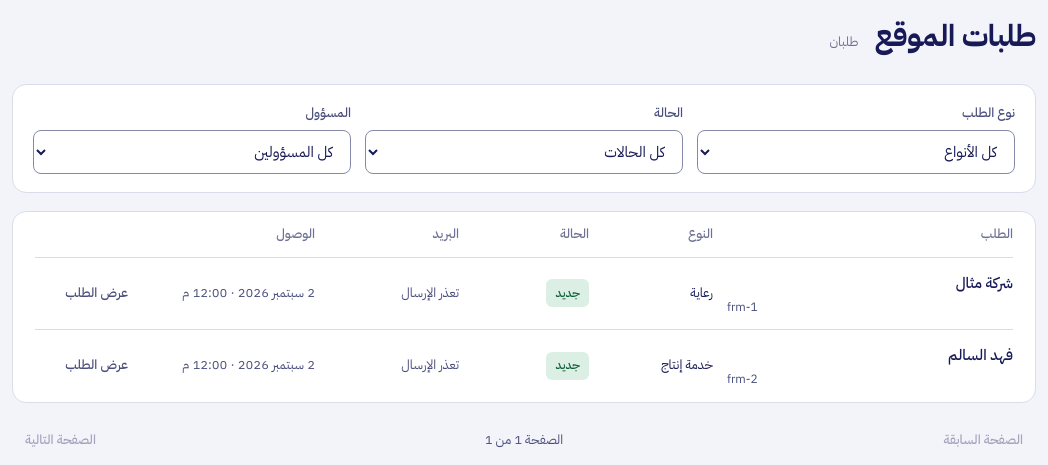
Test case: Studio form-submission inbox › filters the paged list by submission type with a live control
The width and height of the screenshot is (1048, 465).
Expected: the text "شركة مثال" is shown, [956, 272, 1013, 294]
Expected: the text "فهد السالم" is shown, [948, 344, 1013, 366]
Select "رعاية" in the dropdown labelled "نوع الطلب" at x=856, y=152, box [697, 130, 1015, 174]
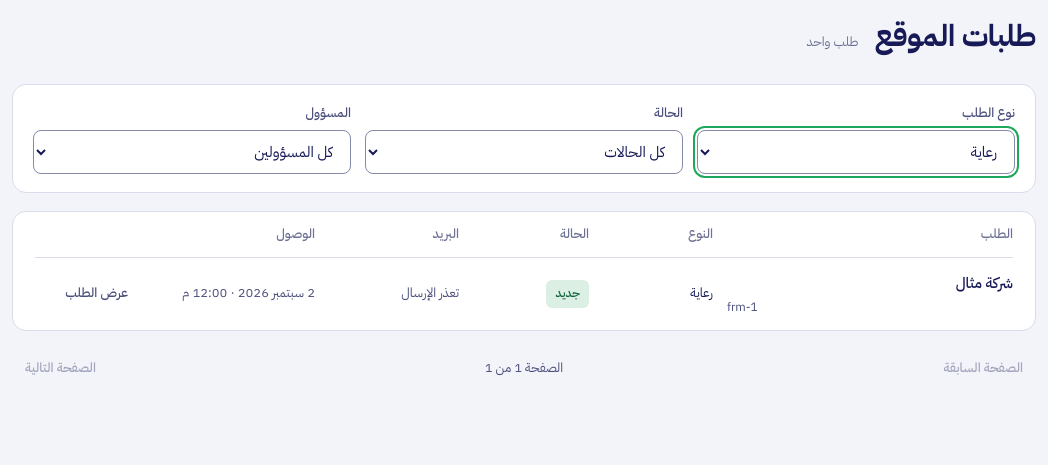
Expected: the text "شركة مثال" is shown, [956, 272, 1013, 294]
Expected: the text "فهد السالم" is gone
